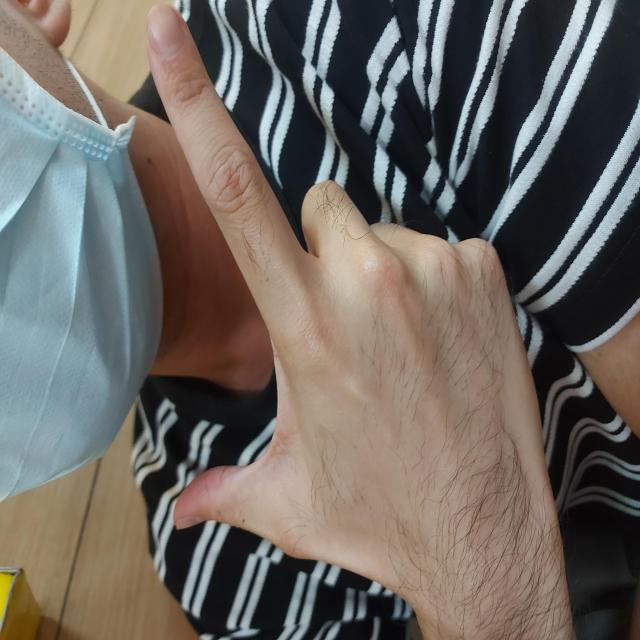G: (46, 144, 637, 562)
